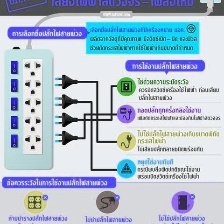three_eye_plug: (1, 46, 55, 171)
